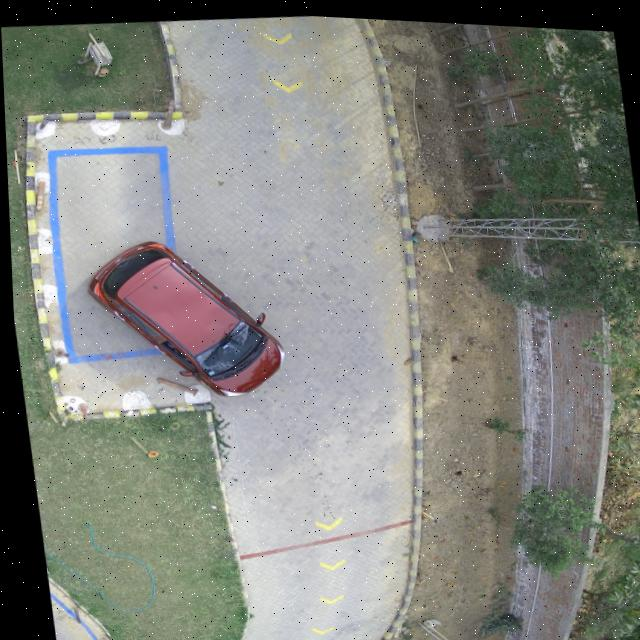car: (85, 240, 280, 395)
